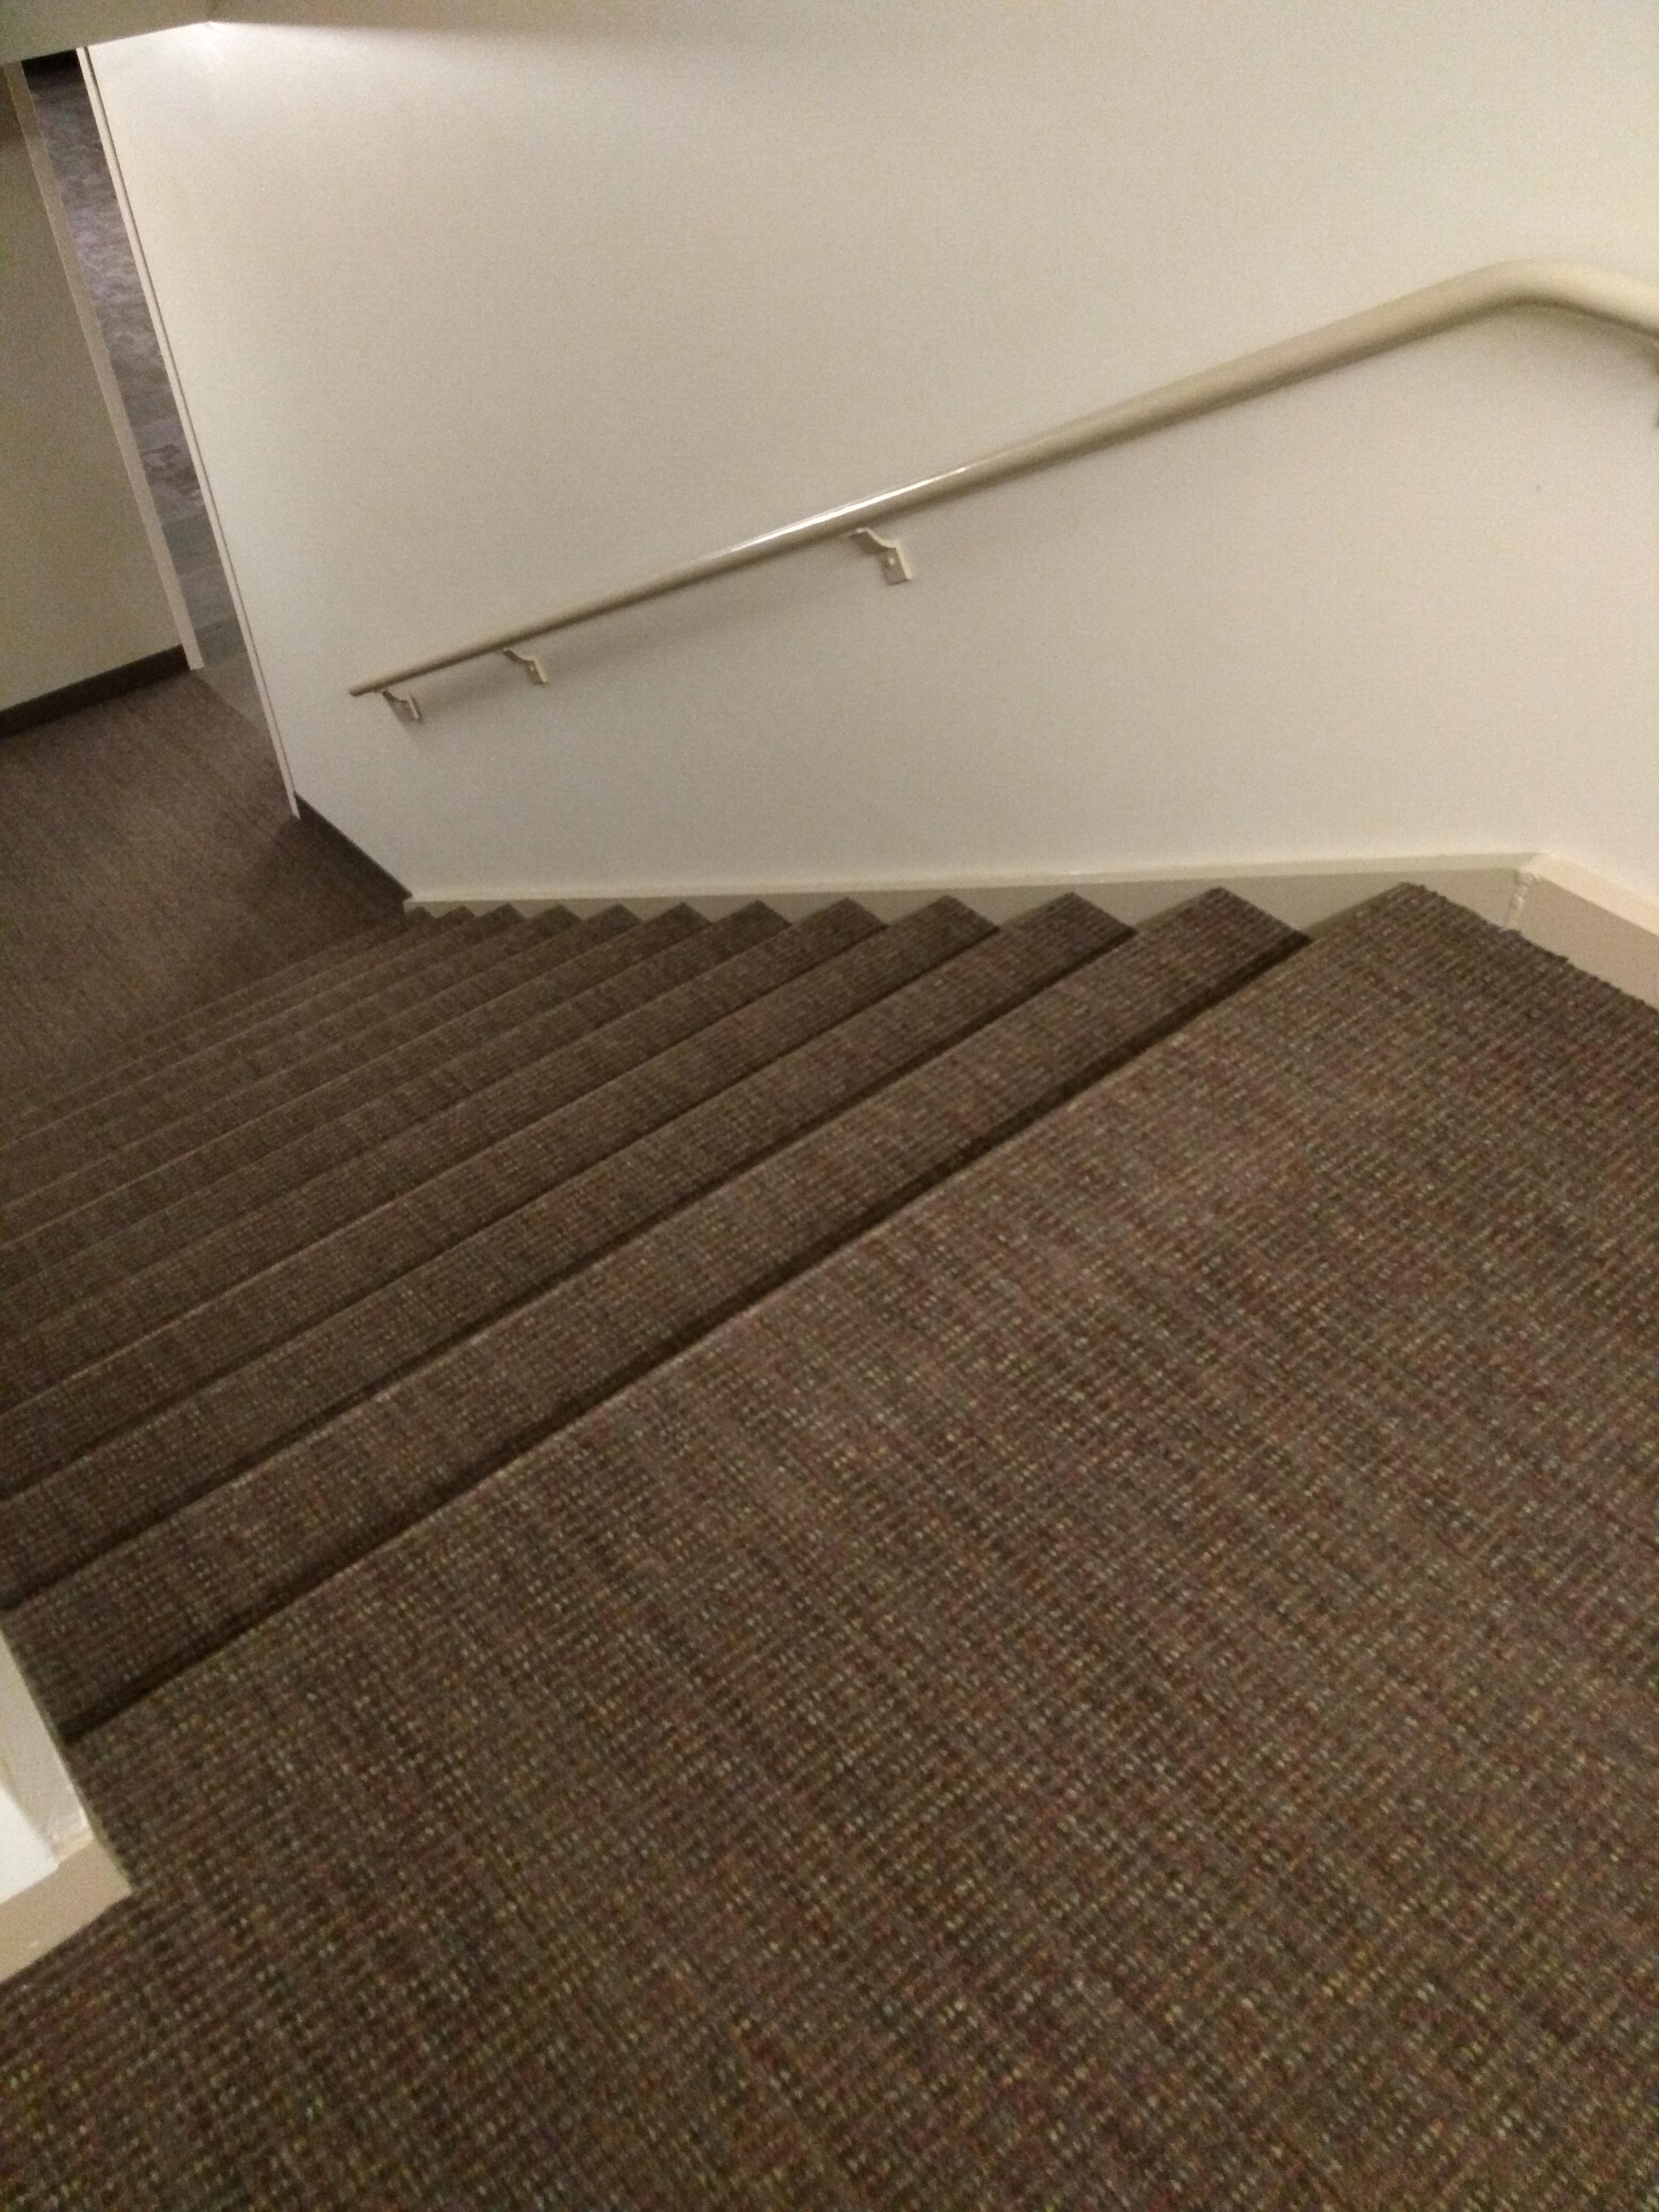stairs_down: (5, 885, 1572, 1770)
